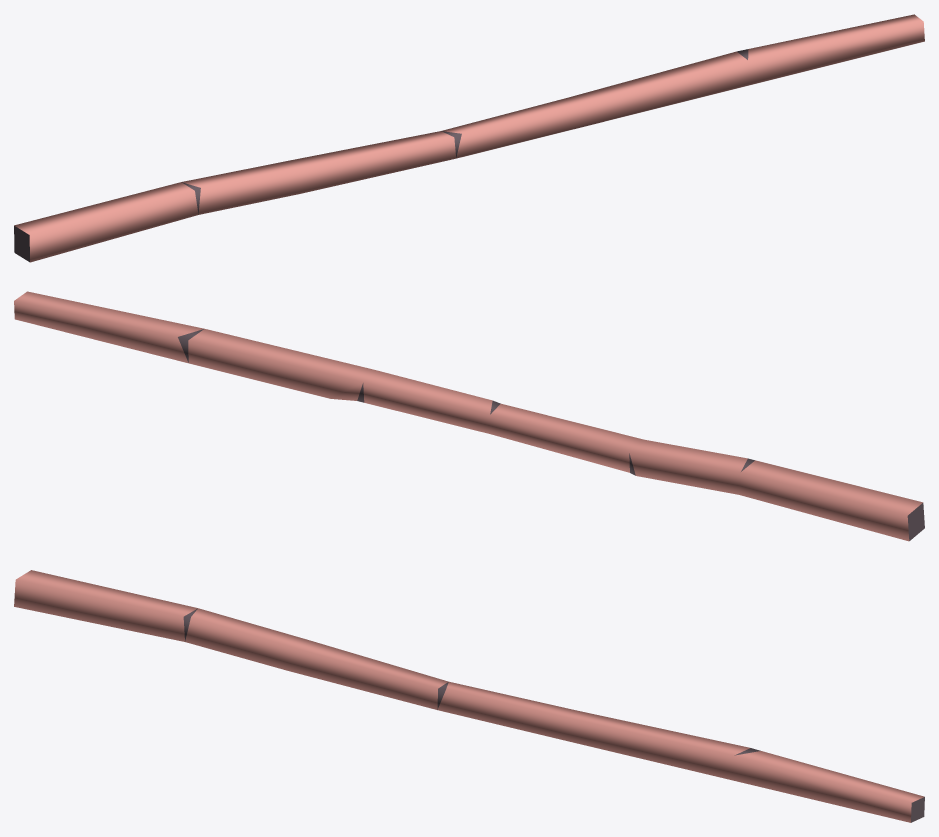
The model's file is spearShaft_birch.glb.
3 renders of one model, top to bottom at view 1: azimuth 30°, elevation 25°; view 2: azimuth 150°, elevation 25°; view 3: azimuth 330°, elevation 25°, orthographic.
Parts seen in each view (by area): view 1: Cube; view 2: Cube; view 3: Cube.
Boxes of the visible parts, x1,y1,x2,y2 form: Cube: [14, 14, 924, 262]; Cube: [14, 291, 924, 541]; Cube: [14, 570, 924, 822].
Size of the model in its own units: 1.55 by 0.0534 by 0.0586.
